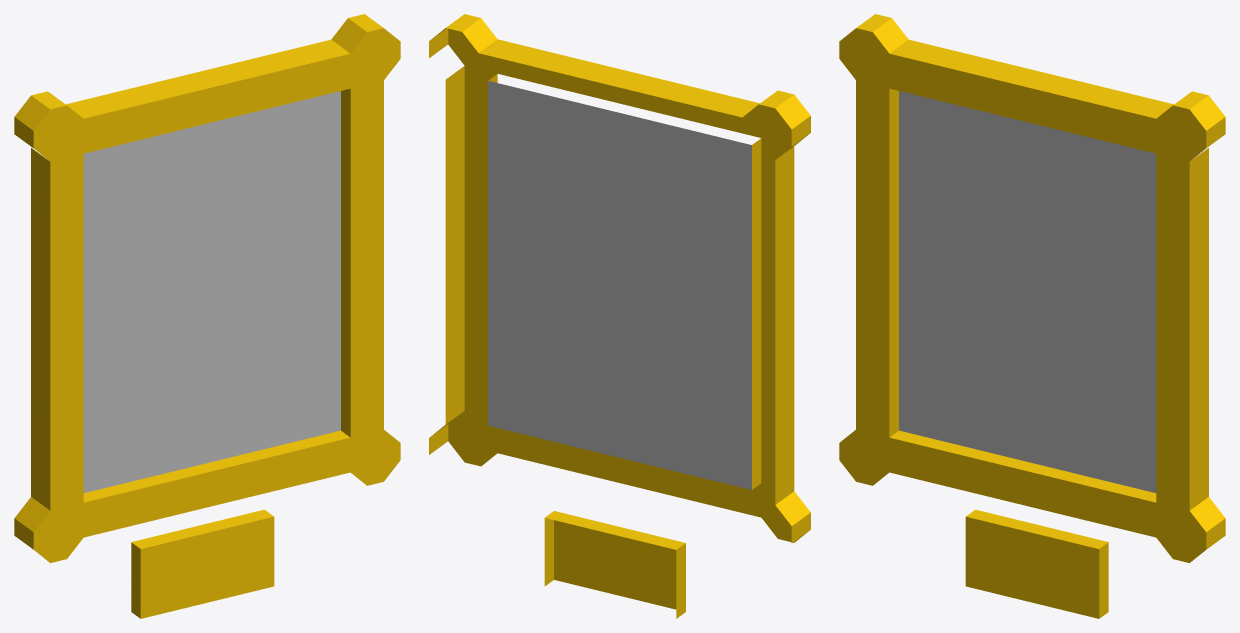
Rendered from portrait.obj.
3 renders of one model, left to right at view 1: azimuth 30°, elevation 25°; view 2: azimuth 150°, elevation 25°; view 3: azimuth 330°, elevation 25°, orthographic.
Parts seen in each view (by area): view 1: portrait_back; view 2: portrait_back; view 3: portrait_back.
Part boxes in pixels (x1,y1,x2,y2): portrait_back: (14,14,400,618); portrait_back: (429,14,810,618); portrait_back: (839,14,1225,618).
Size of the model in its own units: 0.88 by 1.24 by 0.08.
